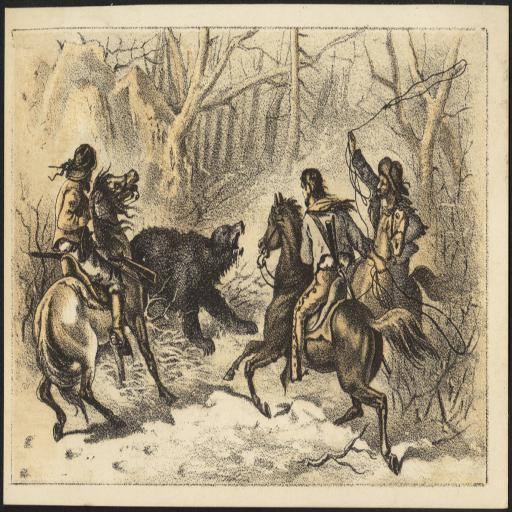horse: (220, 192, 440, 476), (34, 158, 180, 442), (340, 193, 416, 321)
